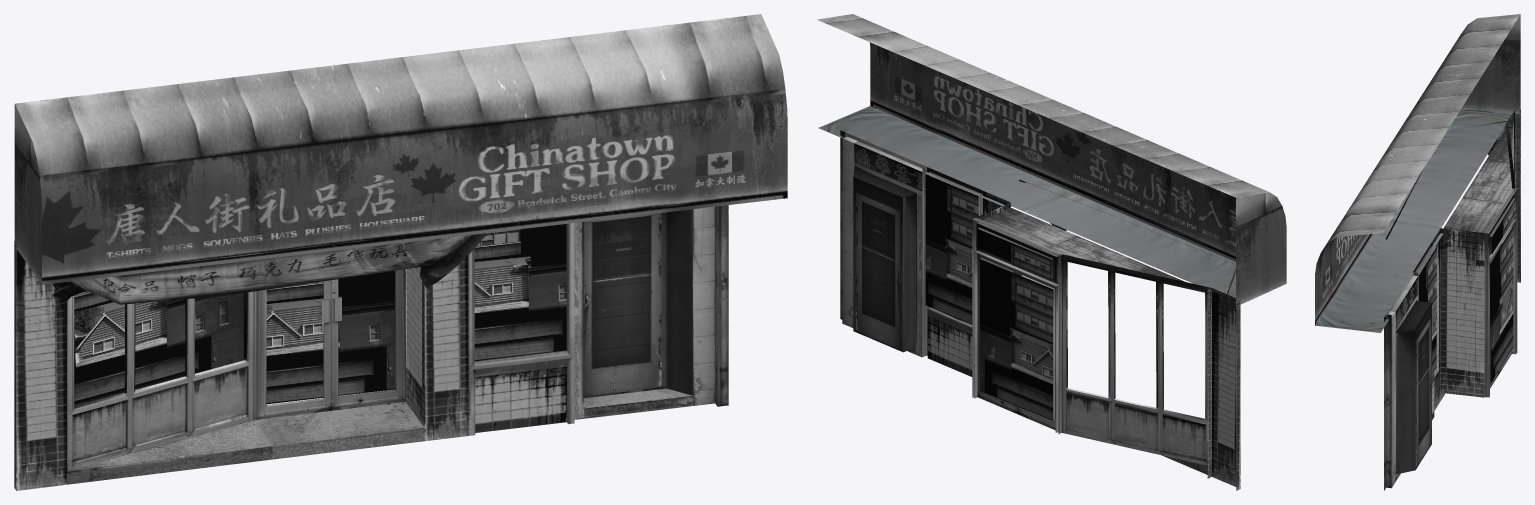
Rendered from chinatown_gift_shop.fbx.
The picture shows the model from 3 angles, left to right: view 1: azimuth 30°, elevation 25°; view 2: azimuth 150°, elevation 25°; view 3: azimuth 270°, elevation 25°; orthographic projection. The views are drawn at different scales.
Visible parts, largest first — view 1: chinatown_gift_shop, gift_shop_windows; view 2: chinatown_gift_shop, gift_shop_windows; view 3: chinatown_gift_shop, gift_shop_windows.
Boxes of the visible parts, x1,y1,x2,y2 form: chinatown_gift_shop: (14, 14, 787, 490); gift_shop_windows: (74, 224, 566, 406); chinatown_gift_shop: (817, 14, 1286, 490); gift_shop_windows: (925, 174, 1052, 420); chinatown_gift_shop: (1315, 14, 1520, 490); gift_shop_windows: (1419, 130, 1515, 384).
Bounding box in the file's own units: 934 × 518 × 356.
